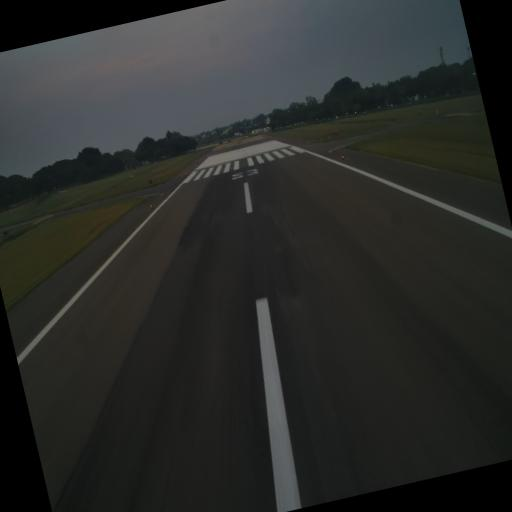on: (148, 204, 154, 210), (340, 154, 346, 160)
